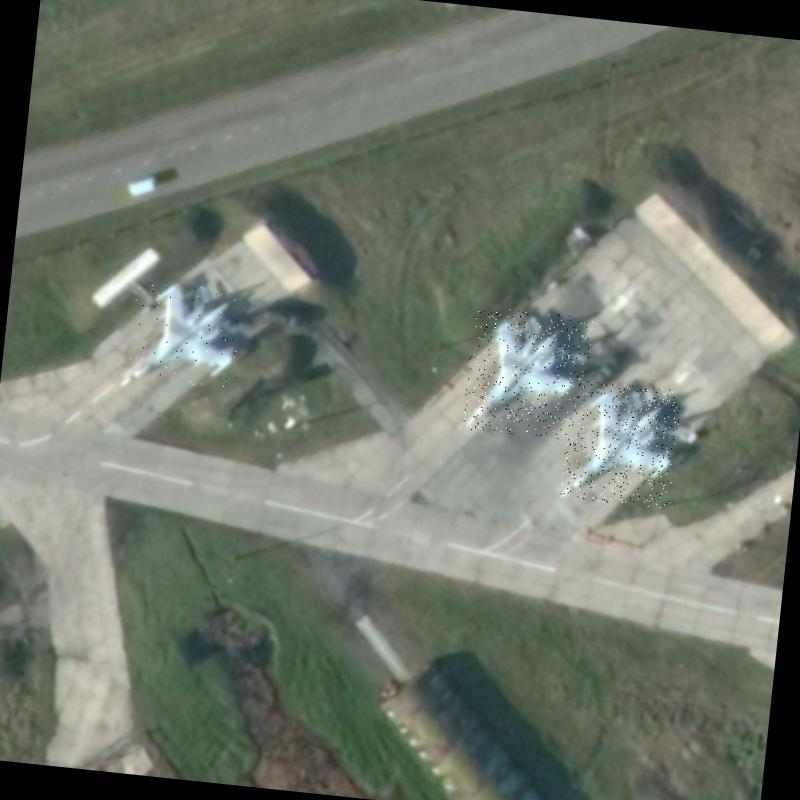A1: (461, 305, 592, 441), (560, 379, 682, 509), (127, 275, 247, 391)
